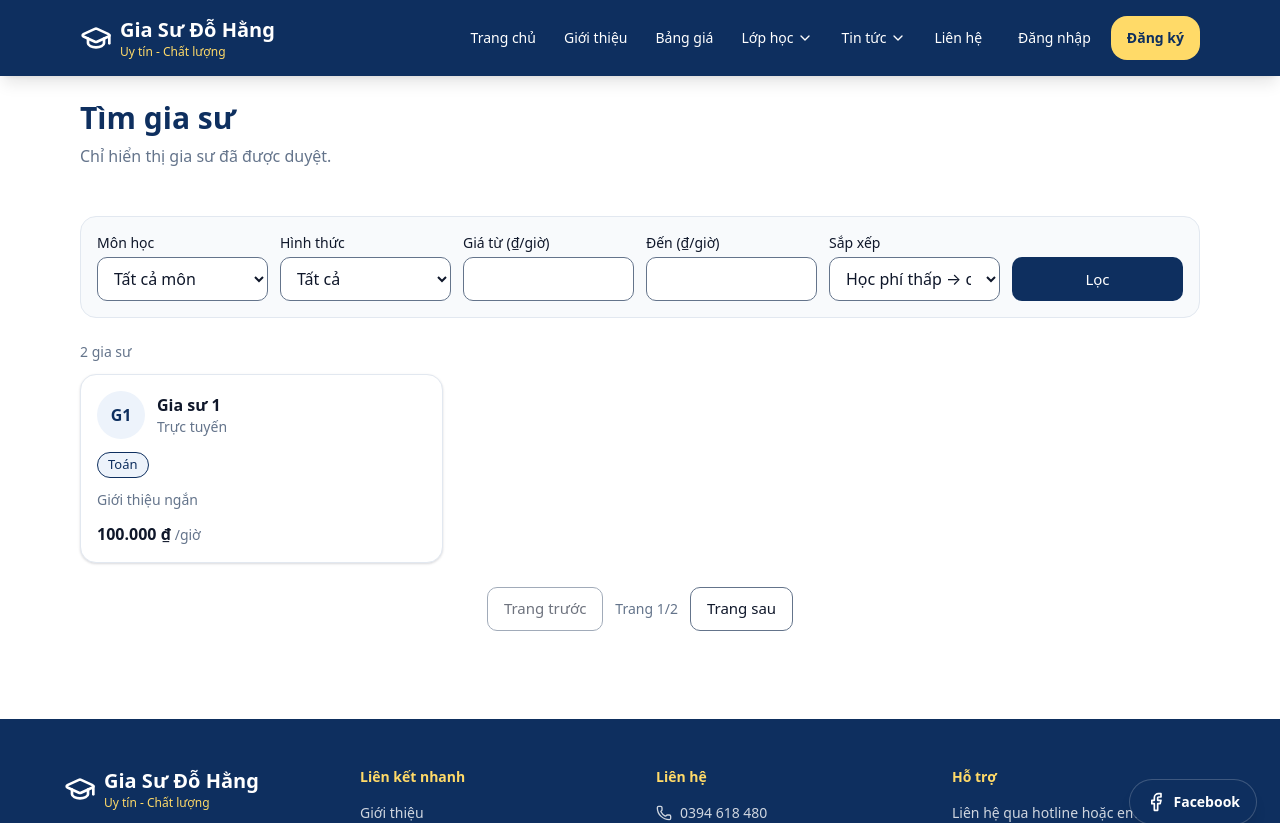
Test: TutorsPage › paginates
Expected: the text "Trang 1/2" is shown, [615, 598, 678, 618]
Expected: the button "Trang trước" is disabled, [487, 586, 603, 630]
Click the button "Trang sau".
click(742, 608)  # box [690, 586, 793, 630]
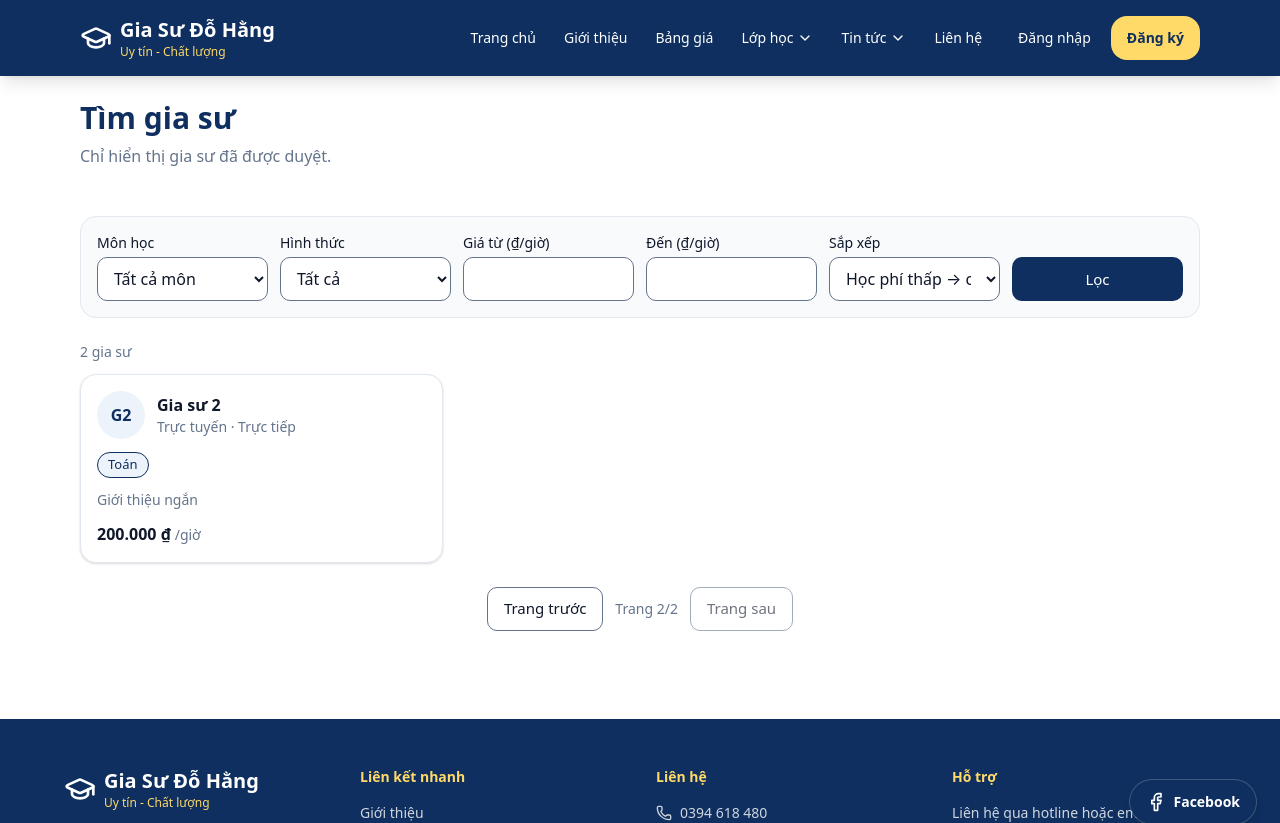
Expected: the text "Trang 2/2" is shown, [615, 598, 678, 618]
